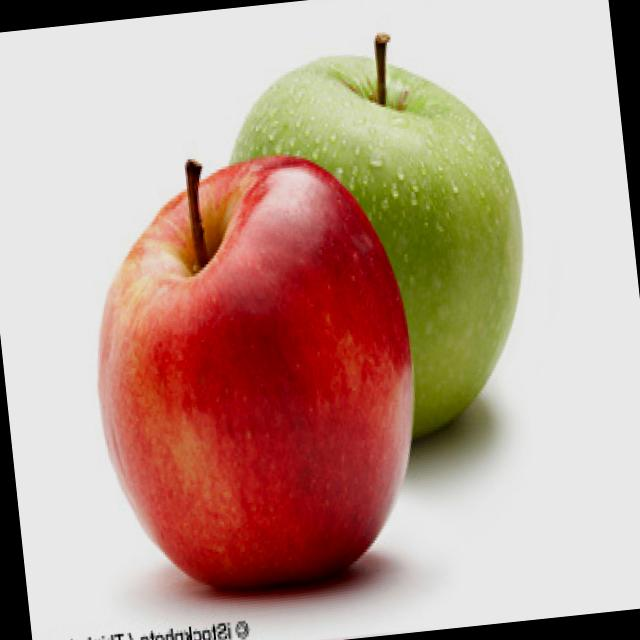apple: (73, 143, 440, 607)
